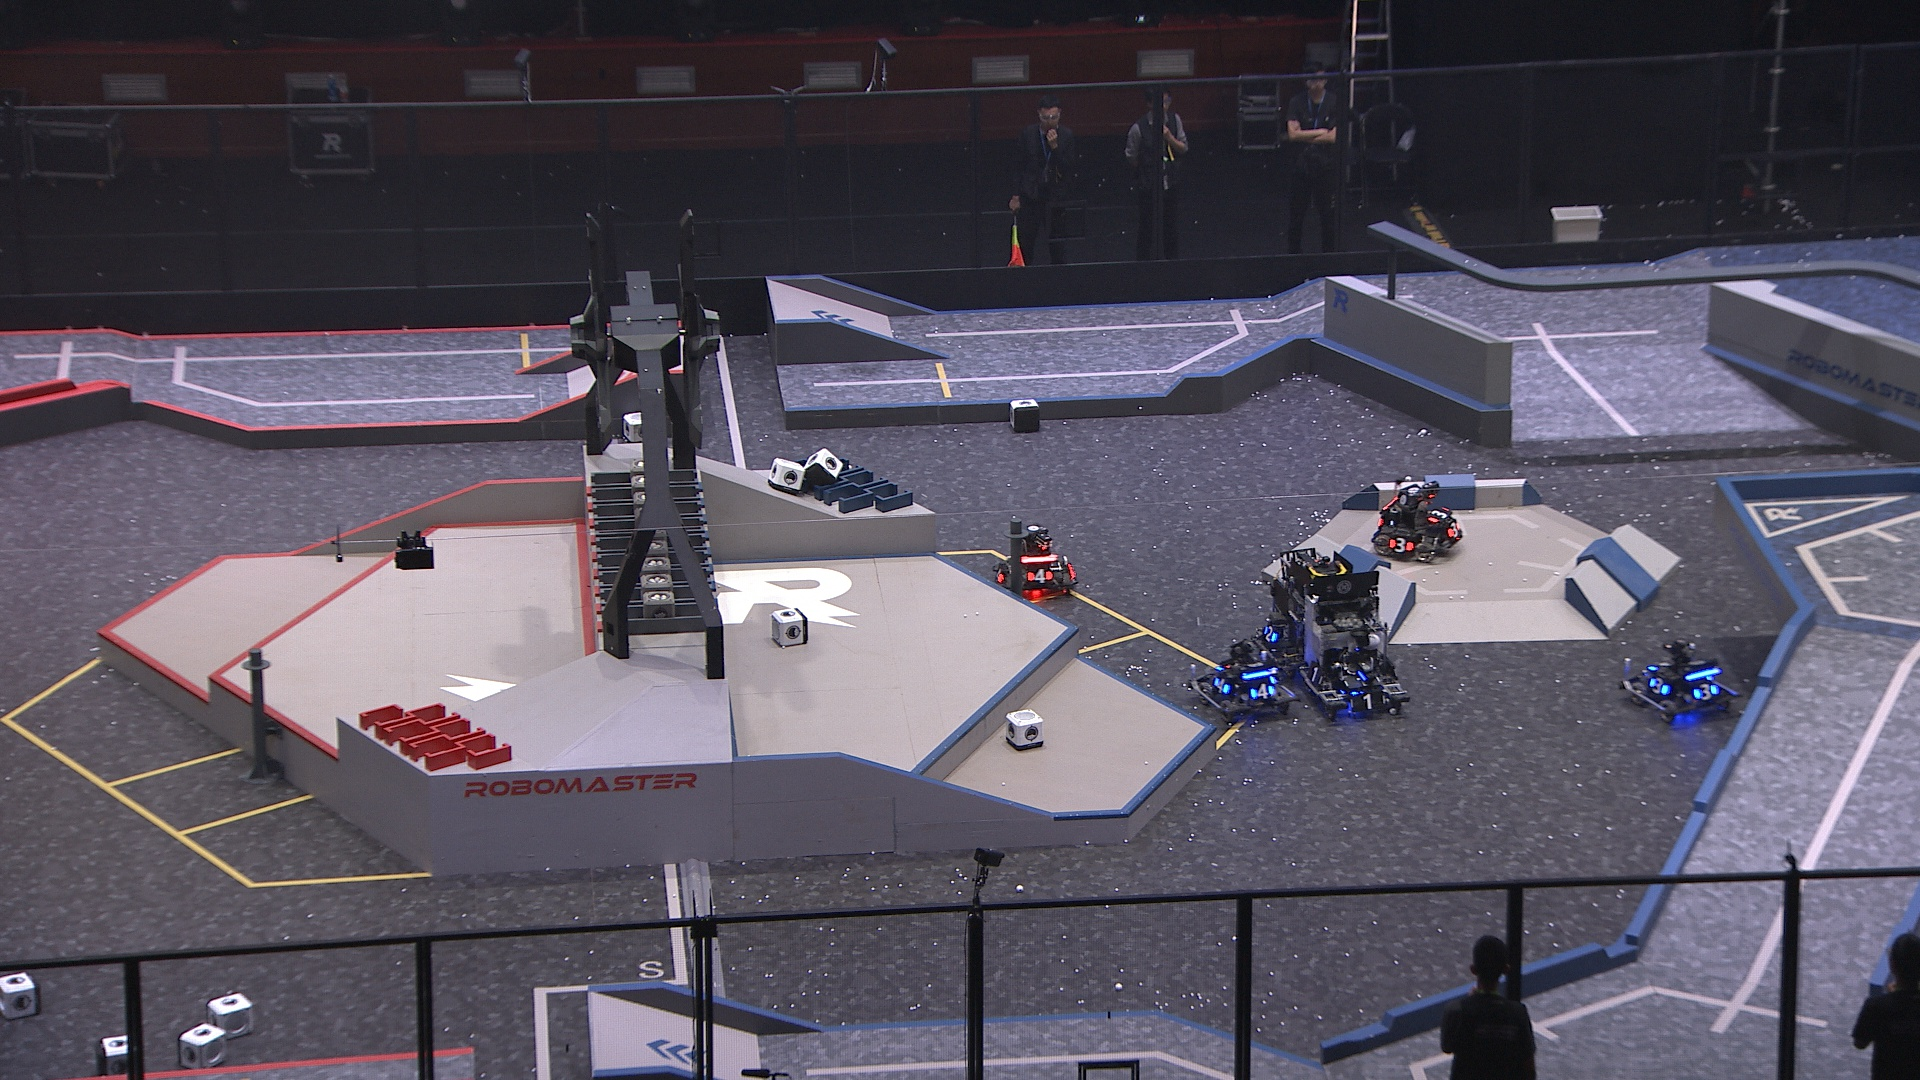armor: (1352, 690, 1386, 711), (1342, 671, 1381, 690), (1026, 568, 1054, 588), (1692, 680, 1720, 700), (1245, 683, 1276, 700), (1647, 676, 1671, 698), (1389, 535, 1415, 553), (1429, 504, 1449, 524), (993, 564, 1011, 585), (1305, 665, 1323, 687), (1215, 675, 1232, 698), (1443, 520, 1461, 538), (1647, 659, 1669, 674), (1263, 626, 1278, 645)
car: (1295, 562, 1411, 723), (1232, 546, 1342, 679), (1622, 638, 1741, 725), (1187, 640, 1304, 723), (986, 520, 1077, 608), (1370, 476, 1462, 560)
